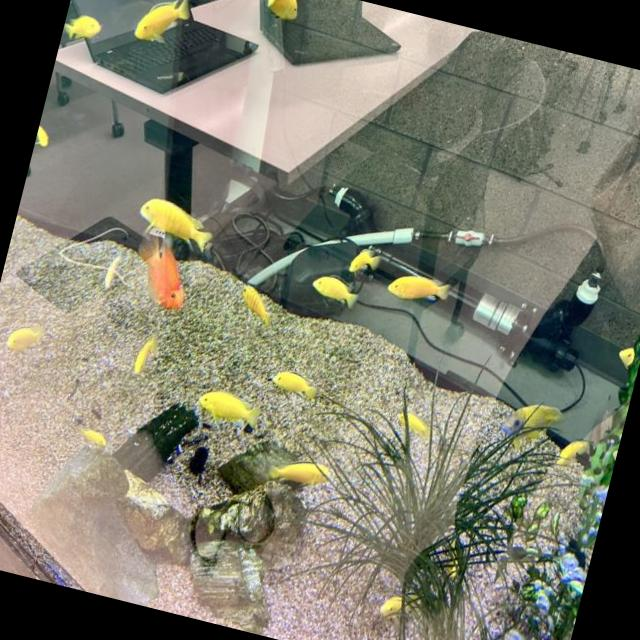YellowCichlid: (122, 186, 225, 248), (221, 262, 296, 340), (0, 292, 56, 377), (303, 261, 371, 322), (191, 368, 256, 431), (495, 392, 559, 452), (384, 259, 454, 312), (261, 358, 327, 411), (249, 0, 326, 45), (128, 0, 193, 52), (264, 445, 332, 493), (58, 0, 113, 57), (120, 324, 164, 394), (388, 395, 439, 442), (370, 584, 412, 625), (552, 429, 584, 479), (73, 418, 115, 456), (341, 242, 382, 272), (607, 338, 640, 371), (33, 122, 56, 155)
